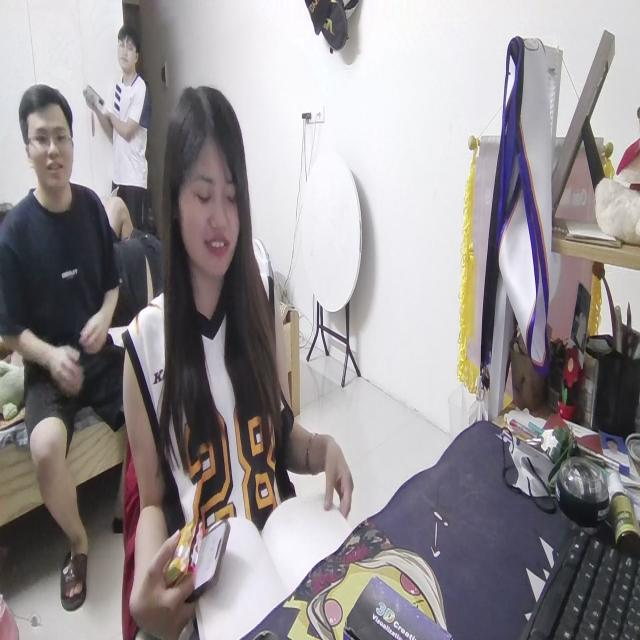book: (190, 486, 354, 640)
extra_person: (1, 82, 135, 602), (87, 26, 154, 242)
phone: (186, 512, 233, 595)
student: (116, 80, 354, 640)
